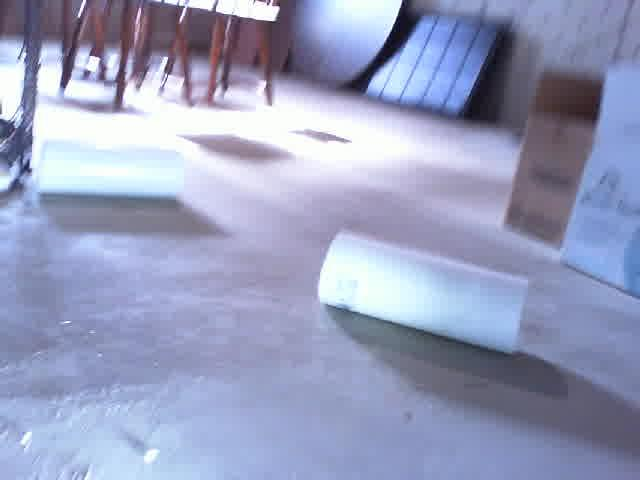coral: (317, 222, 533, 357), (34, 135, 191, 199)
